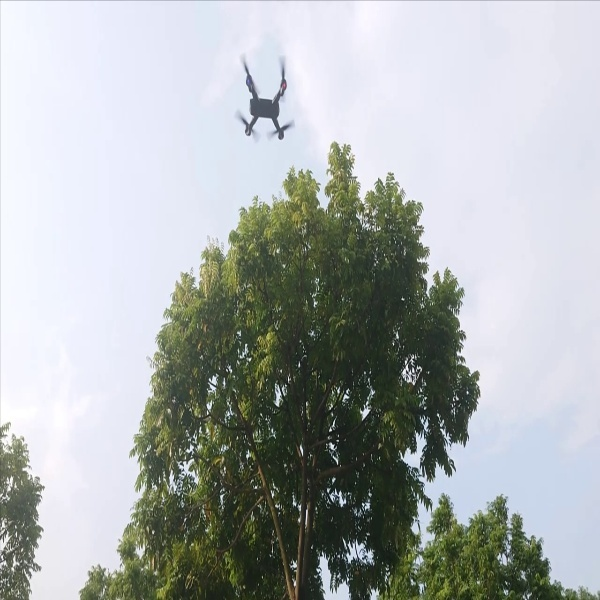drone: (230, 43, 306, 149)
